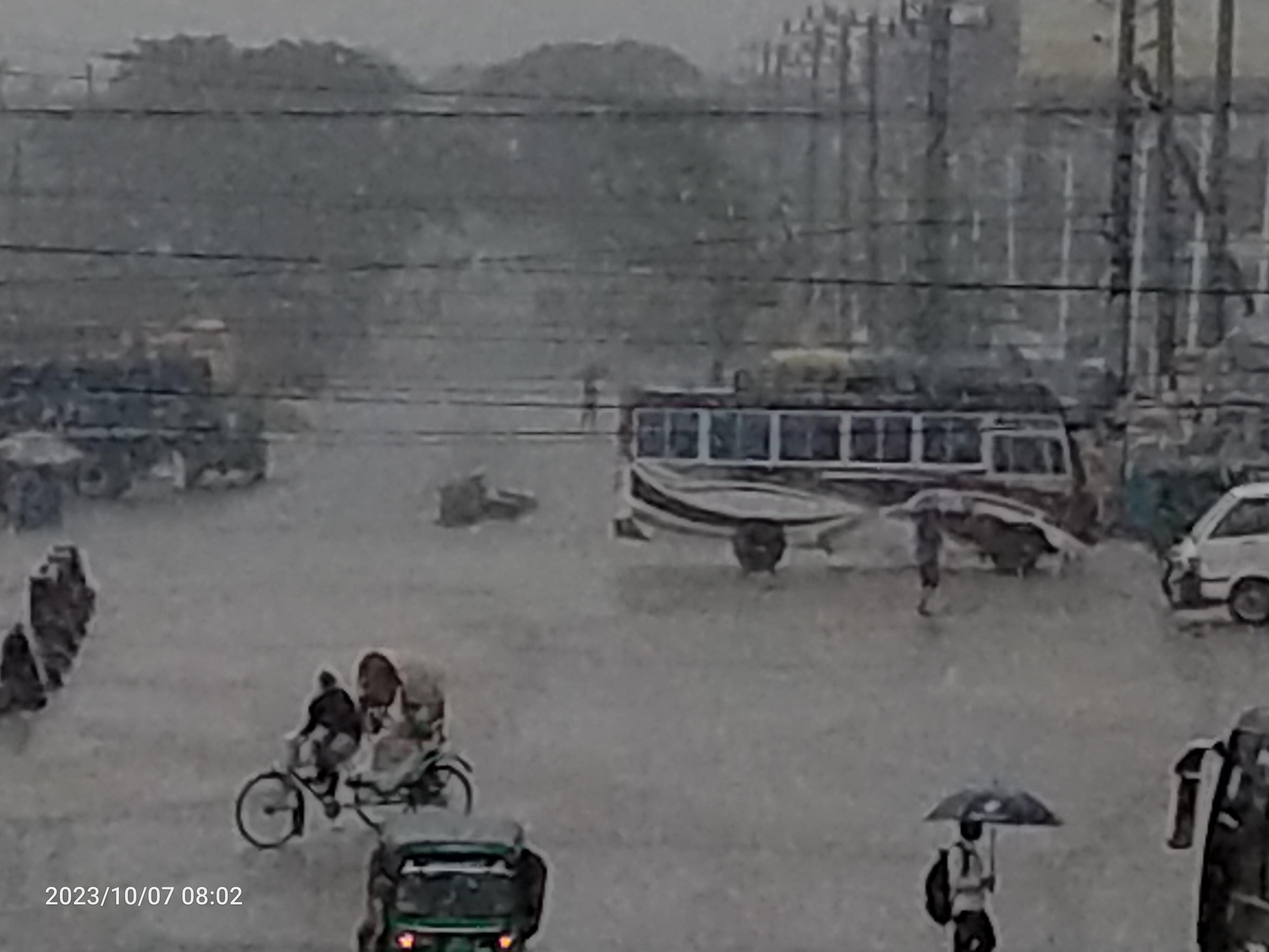Bus: (582, 350, 1128, 619), (1163, 675, 1269, 952)
Car: (210, 639, 549, 854), (1154, 459, 1269, 669)
